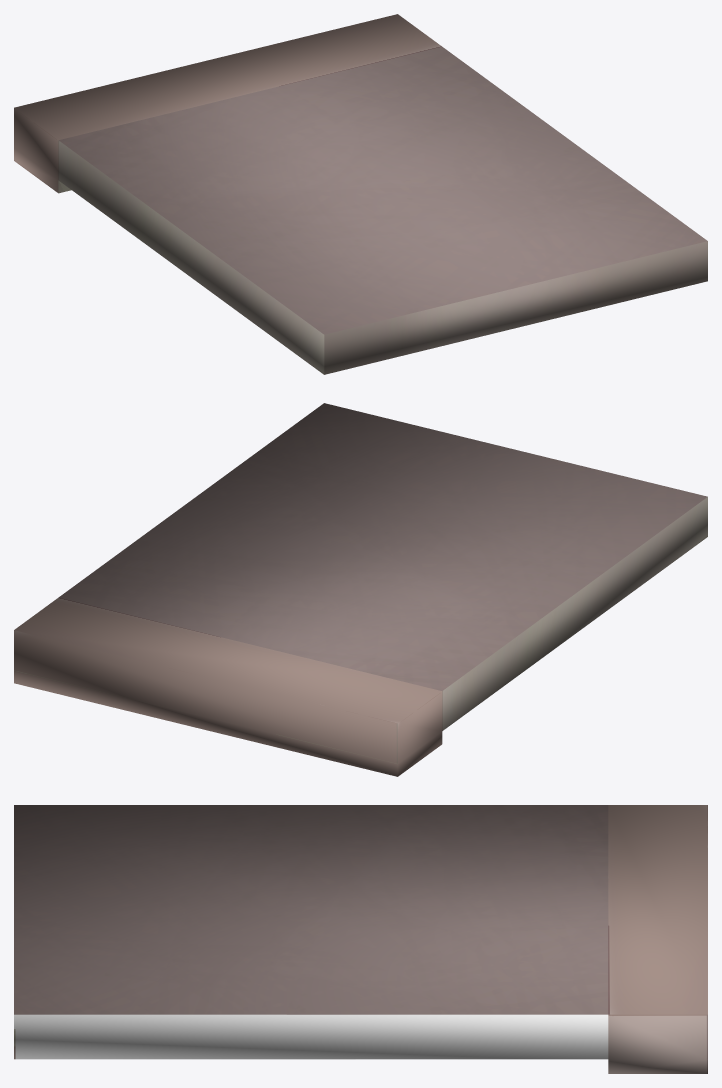
The model's file is notepad2-1.fbx.
3 views of the same model, one above another, from view 1: azimuth 30°, elevation 25°; view 2: azimuth 150°, elevation 25°; view 3: azimuth 270°, elevation 25° (orthographic). The views are drawn at different scales.
Parts seen in each view (by area): view 1: Cube; view 2: Cube; view 3: Cube.
Part boxes in pixels (bbox=[...]): Cube: bbox=[14, 14, 707, 374]; Cube: bbox=[14, 403, 707, 776]; Cube: bbox=[14, 805, 707, 1073].
Bounding box in the file's own units: 2 × 0.2648 × 2.8.
1 material, 1 textured.
